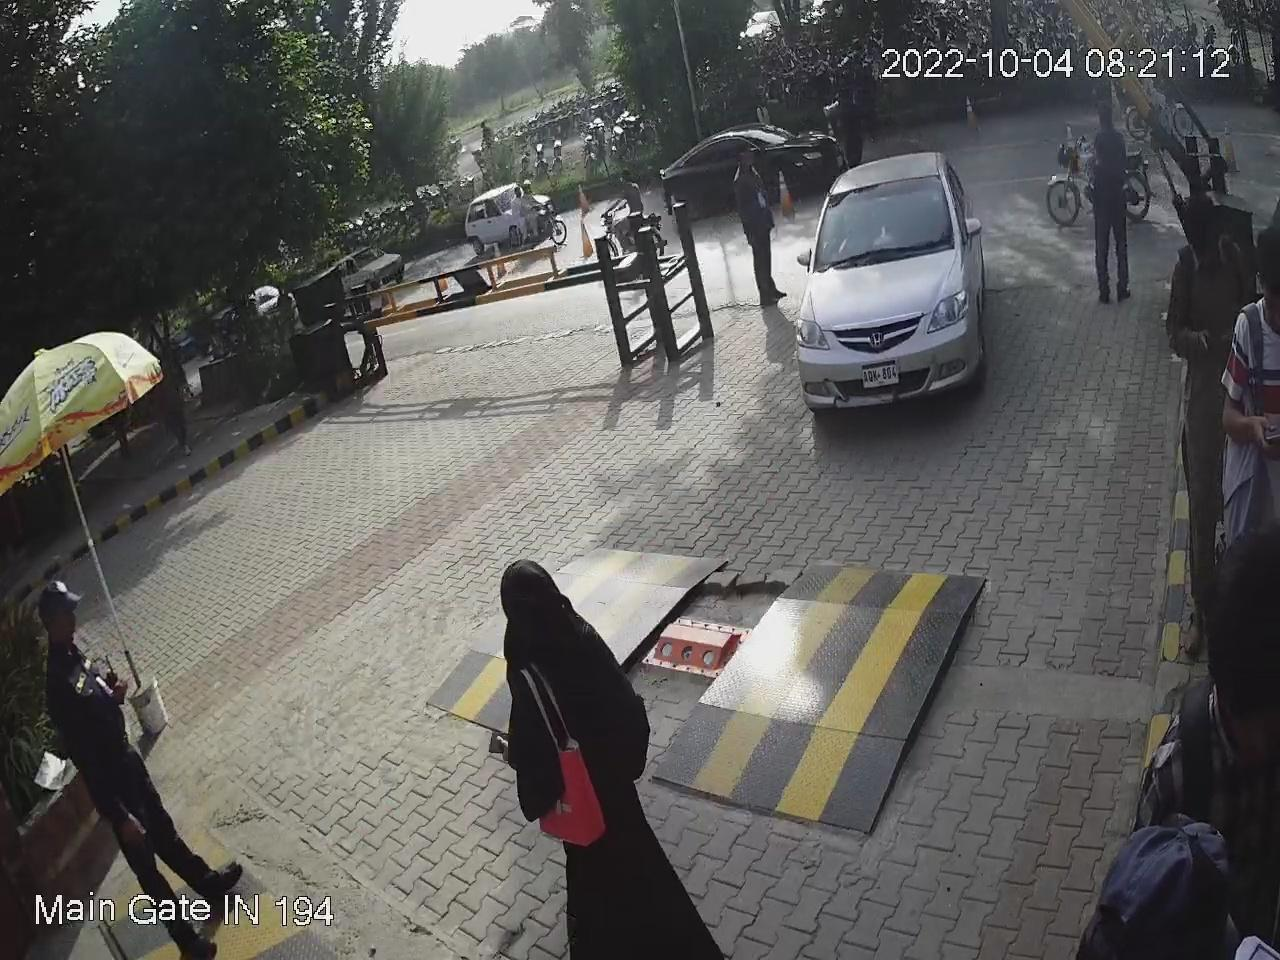windshield: (808, 165, 955, 272)
